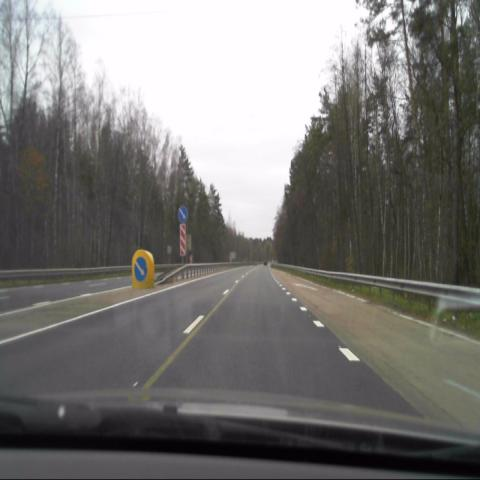4_2_1: (133, 255, 147, 282)
